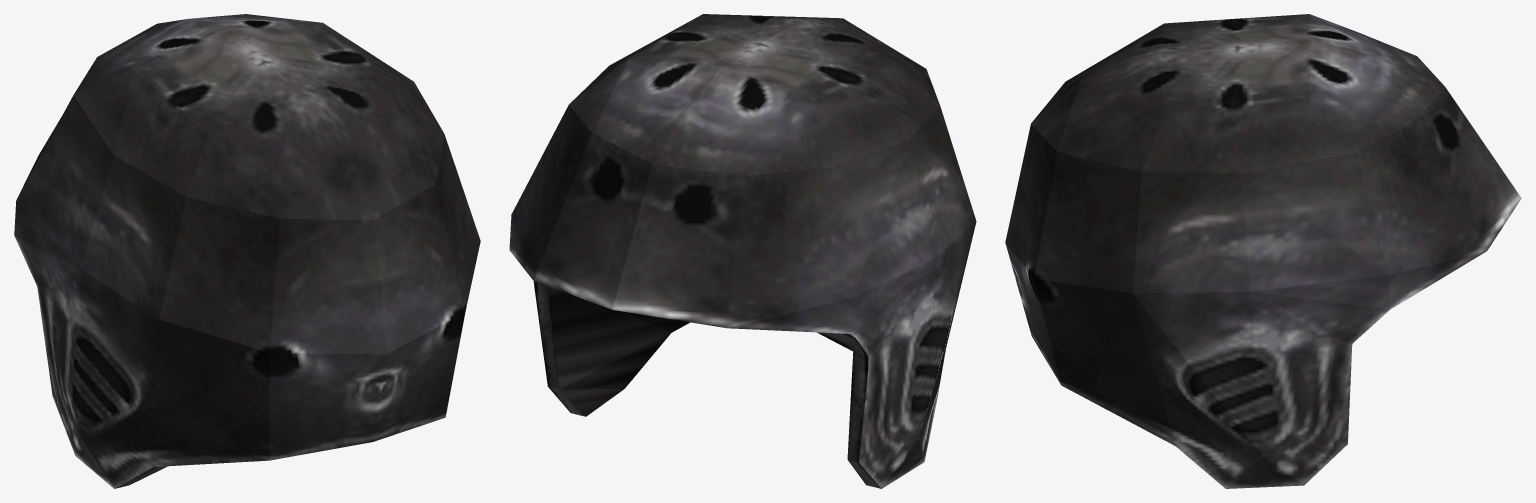
Rendered from recovered_gear_flak_helmet_maya_7ae6f682822d.glb.
3 views of the same model, side by side, from view 1: azimuth 30°, elevation 25°; view 2: azimuth 150°, elevation 25°; view 3: azimuth 270°, elevation 25° (orthographic). The views are drawn at different scales.
Visible parts, largest first — view 1: flak_helmet_maya; view 2: flak_helmet_maya; view 3: flak_helmet_maya.
Part boxes in pixels (bbox=[...]): flak_helmet_maya: bbox=[14, 14, 480, 488]; flak_helmet_maya: bbox=[509, 14, 976, 488]; flak_helmet_maya: bbox=[1005, 14, 1521, 488].
Size of the model in its own units: 0.2047 by 0.2138 by 0.2683.
Materials: 1 (1 with a texture image).
